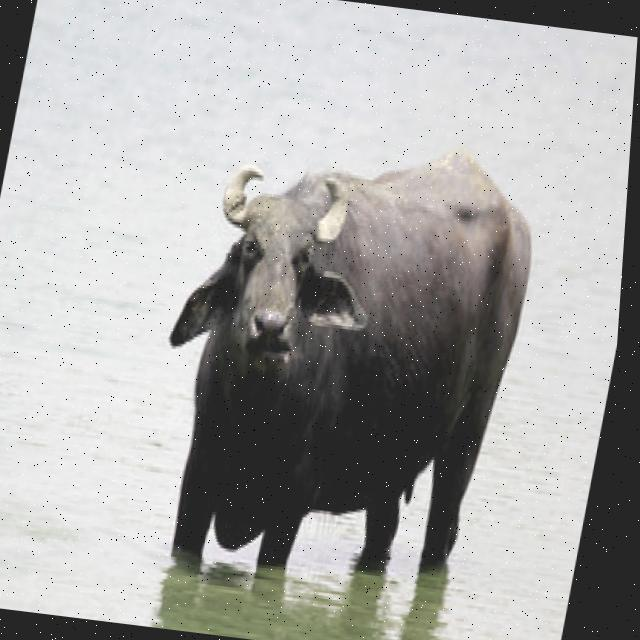Buffalo: (120, 110, 557, 605)
